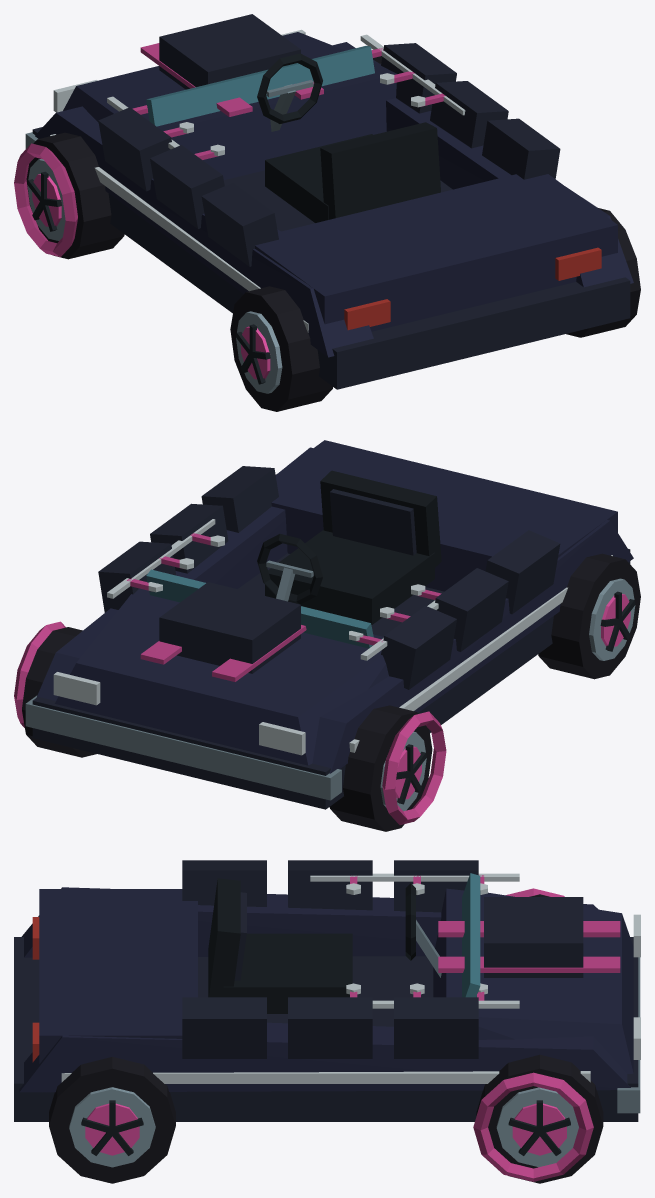
The model's file is kart.glb.
3 views of the same model, one above another, from view 1: azimuth 30°, elevation 25°; view 2: azimuth 150°, elevation 25°; view 3: azimuth 270°, elevation 25° (orthographic). The views are drawn at different scales.
Parts seen in each view (by area): view 1: identity-muscle-car-muscle-car-road-car-body, identity-muscle-car-motif-armor, identity-muscle-car-driver-cockpit, wheel-rear-left, wheel-front-left, identity-muscle-car-motif-neon, identity-muscle-car-motif-circuit, wheel-rear-right; view 2: identity-muscle-car-muscle-car-road-car-body, identity-muscle-car-motif-armor, identity-muscle-car-driver-cockpit, wheel-rear-left, wheel-front-left, identity-muscle-car-motif-neon, identity-muscle-car-motif-circuit, wheel-front-right; view 3: identity-muscle-car-muscle-car-road-car-body, identity-muscle-car-motif-armor, identity-muscle-car-driver-cockpit, wheel-rear-right, identity-muscle-car-motif-neon, wheel-front-right, identity-muscle-car-motif-circuit.
Part boxes in pixels (bbox=[...]): identity-muscle-car-muscle-car-road-car-body: bbox=[25, 14, 633, 389]; identity-muscle-car-motif-armor: bbox=[98, 43, 560, 266]; identity-muscle-car-driver-cockpit: bbox=[257, 53, 440, 222]; wheel-rear-left: bbox=[230, 286, 332, 411]; wheel-front-left: bbox=[26, 132, 124, 259]; identity-muscle-car-motif-neon: bbox=[14, 134, 308, 332]; identity-muscle-car-motif-circuit: bbox=[107, 34, 465, 159]; wheel-rear-right: bbox=[566, 208, 640, 337]; identity-muscle-car-muscle-car-road-car-body: bbox=[25, 440, 633, 809]; identity-muscle-car-motif-armor: bbox=[98, 466, 560, 689]; identity-muscle-car-driver-cockpit: bbox=[257, 470, 441, 624]; wheel-rear-left: bbox=[538, 553, 640, 679]; wheel-front-left: bbox=[329, 705, 432, 831]; identity-muscle-car-motif-neon: bbox=[14, 555, 612, 824]; identity-muscle-car-motif-circuit: bbox=[107, 519, 441, 660]; wheel-front-right: bbox=[22, 627, 96, 757]; identity-muscle-car-muscle-car-road-car-body: bbox=[14, 873, 640, 1121]; identity-muscle-car-motif-armor: bbox=[182, 860, 478, 1058]; identity-muscle-car-driver-cockpit: bbox=[208, 878, 441, 1013]; wheel-rear-right: bbox=[49, 1057, 175, 1183]; identity-muscle-car-motif-neon: bbox=[61, 888, 593, 1181]; wheel-front-right: bbox=[476, 1054, 603, 1183]; identity-muscle-car-motif-circuit: bbox=[310, 873, 519, 1008].
Bounding box in the file's own units: 2.13 × 1.09 × 2.96.
